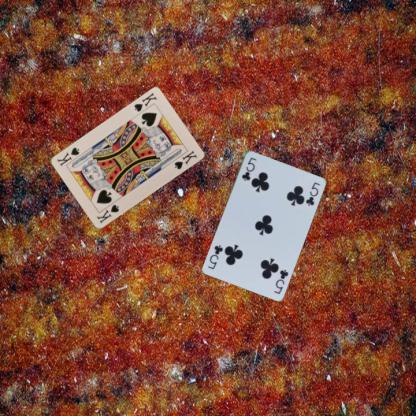5c: (239, 155, 258, 182), (271, 267, 289, 295)
Ks: (131, 90, 158, 113), (94, 202, 120, 225)
